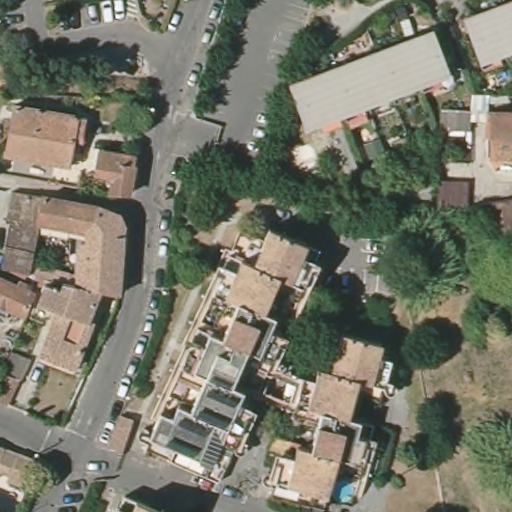pool: (330, 476, 358, 507)
